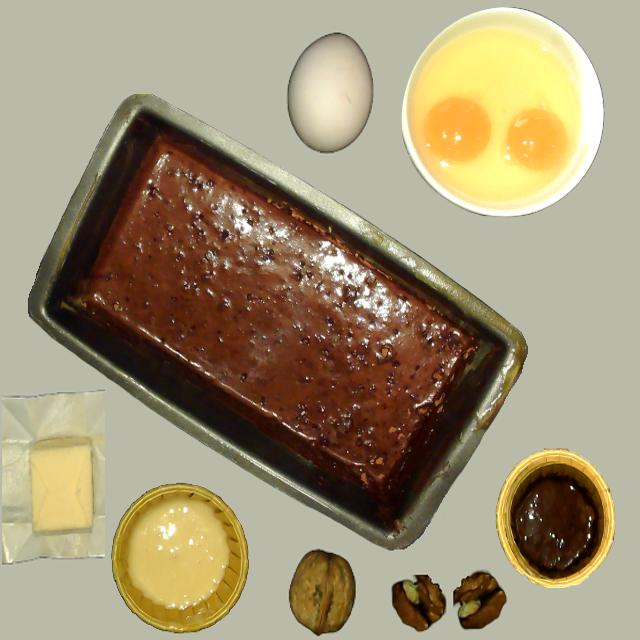Egg: (424, 96, 492, 166), (505, 108, 569, 172)
Walnut: (275, 543, 367, 639)
